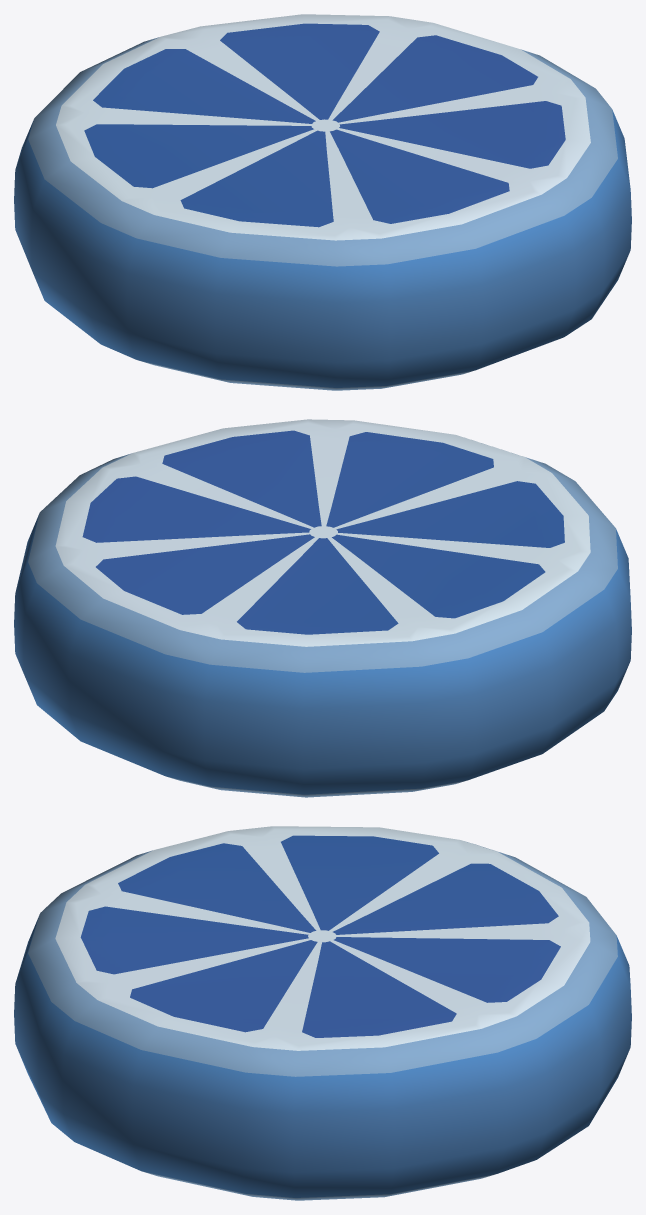
Rendered from candy_hard_2.fbx.
3 views of the same model, one above another, from view 1: azimuth 30°, elevation 25°; view 2: azimuth 150°, elevation 25°; view 3: azimuth 270°, elevation 25° (orthographic).
Visible parts, largest first — view 1: c_h_2; view 2: c_h_2; view 3: c_h_2.
Boxes of the visible parts, x1=… form: c_h_2: x1=14, y1=14, x2=631, y2=390; c_h_2: x1=14, y1=419, x2=631, y2=797; c_h_2: x1=14, y1=826, x2=631, y2=1200.
Size of the model in its own units: 157 by 42.99 by 158.
